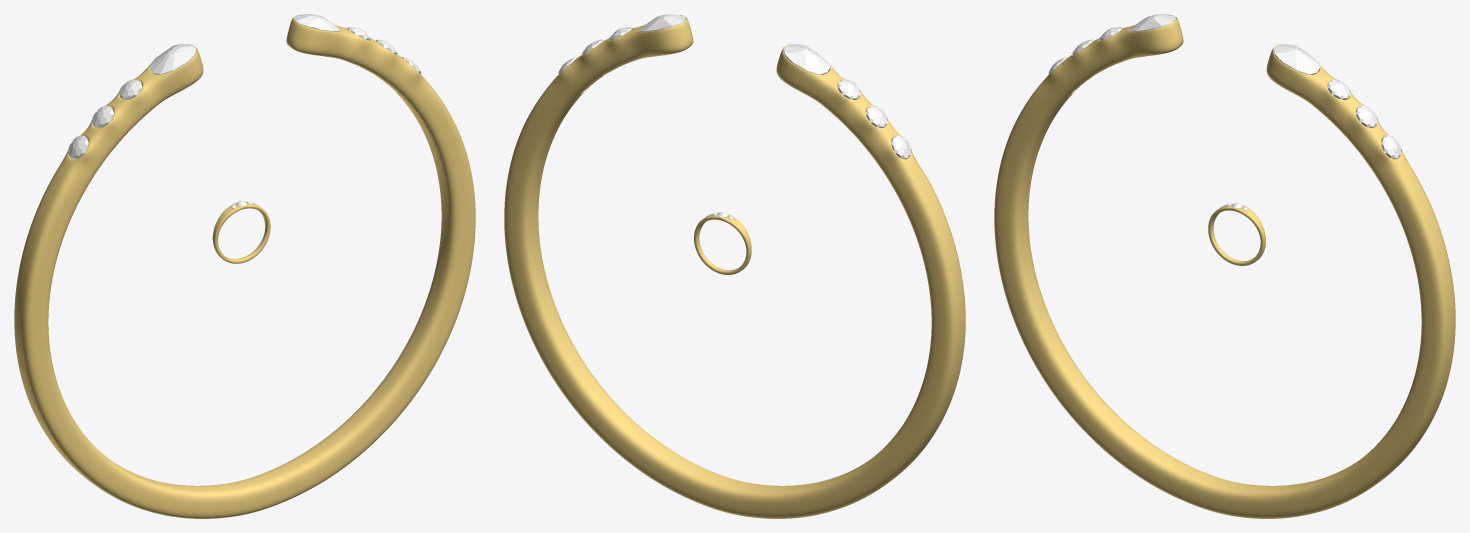
File: ring003.glb
3 renders of one model, left to right at view 1: azimuth 30°, elevation 25°; view 2: azimuth 150°, elevation 25°; view 3: azimuth 330°, elevation 25°, orthographic.
Parts seen in each view (by area): view 1: Ring, smallGems, bigGems, Circle; view 2: Ring, smallGems, bigGems, Circle; view 3: Ring, smallGems, bigGems, Circle.
Part boxes in pixels (x1,y1,x2,y2): Ring: (14, 17, 475, 518); smallGems: (68, 27, 421, 159); bigGems: (149, 14, 340, 74); Circle: (212, 201, 270, 263); Ring: (504, 17, 965, 518); smallGems: (558, 27, 911, 159); bigGems: (639, 14, 830, 74); Circle: (694, 212, 751, 274); Ring: (994, 17, 1455, 518); smallGems: (1048, 27, 1401, 159); bigGems: (1129, 14, 1320, 74); Circle: (1208, 203, 1265, 265).
Bounding box in the file's own units: 1.96 × 1.98 × 0.1551.
